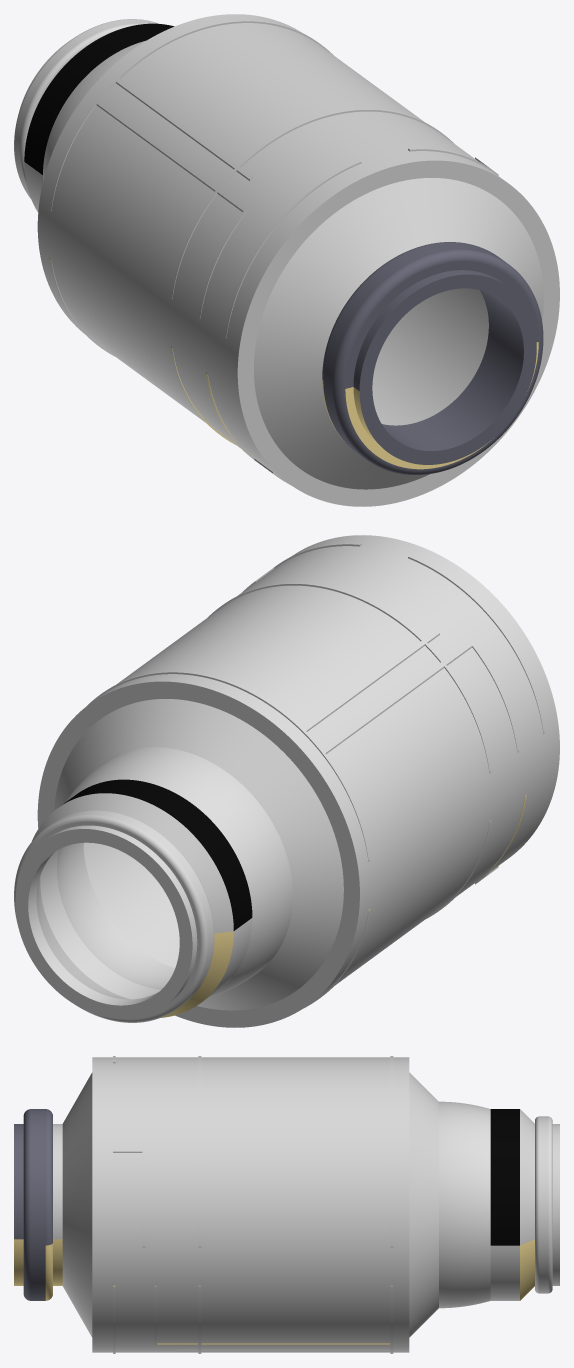
The picture shows the model from 3 angles, top to bottom: view 1: azimuth 30°, elevation 25°; view 2: azimuth 150°, elevation 25°; view 3: azimuth 270°, elevation 25°; orthographic projection. The views are drawn at different scales.
Visible parts, largest first — view 1: Subensamble N52 ISS-1/Subensamble N51 ISS-1/Subensamble N48  (×2); view 2: Subensamble N52 ISS-1/Subensamble N51 ISS-1/Subensamble N48  (×2); view 3: Subensamble N52 ISS-1/Subensamble N51 ISS-1/Subensamble N48  (×2).
Boxes of the visible parts, bbox=[...] form: Subensamble N52 ISS-1/Subensamble N51 ISS-1/Subensamble N48  (×2): bbox=[14, 14, 559, 506]; Subensamble N52 ISS-1/Subensamble N51 ISS-1/Subensamble N48  (×2): bbox=[14, 535, 559, 1027]; Subensamble N52 ISS-1/Subensamble N51 ISS-1/Subensamble N48  (×2): bbox=[14, 1056, 559, 1353].
Size of the model in its own units: 200 by 202 by 370.
